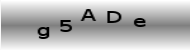5: (57, 19, 73, 33)
A: (79, 7, 97, 23)
D: (105, 10, 122, 24)
e: (132, 17, 147, 28)
g: (36, 25, 50, 40)
